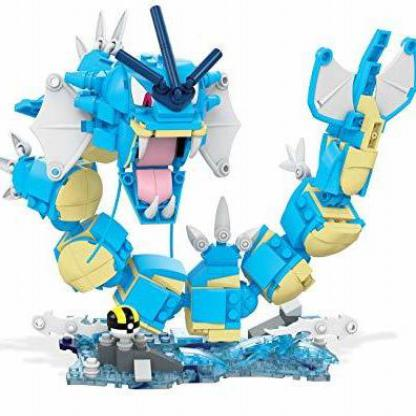Gyarados: (55, 37, 240, 233)
